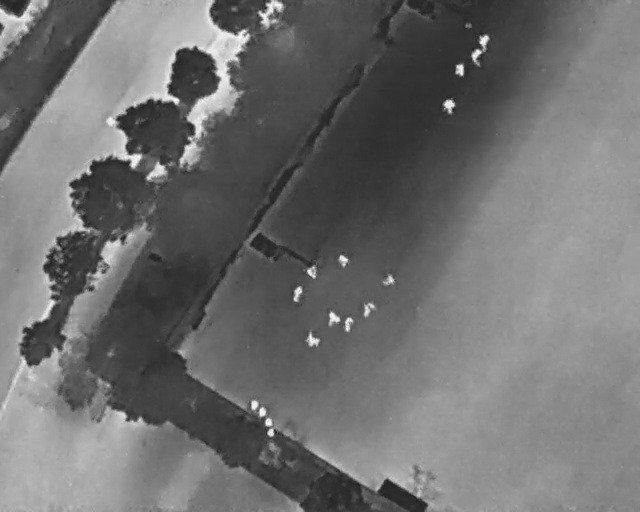Person: (302, 329, 324, 351), (325, 309, 343, 329), (476, 32, 492, 51), (361, 301, 377, 319), (290, 284, 304, 304), (341, 315, 355, 334), (443, 97, 455, 117), (471, 49, 483, 65), (382, 274, 396, 286), (306, 265, 317, 280), (338, 255, 349, 269), (456, 62, 465, 77)
